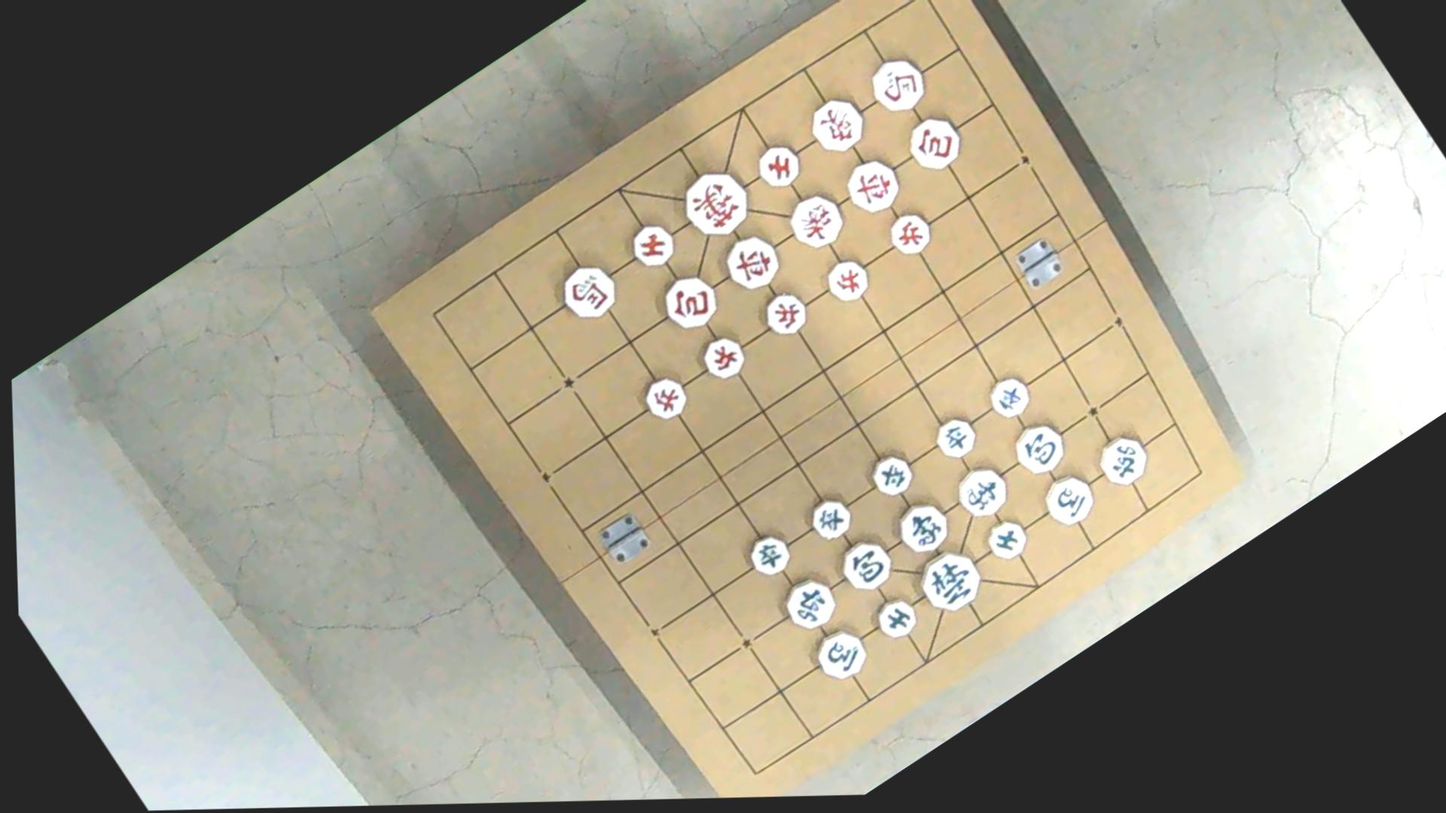cha_green: (775, 571, 844, 638), (1091, 428, 1157, 492)
cha_red: (837, 151, 908, 221), (718, 227, 788, 298)
jol_green: (742, 528, 796, 582), (866, 447, 920, 501), (804, 492, 857, 545), (984, 370, 1037, 422), (929, 411, 982, 463)
jol_red: (757, 285, 815, 342), (637, 370, 694, 426), (819, 252, 875, 308), (882, 205, 938, 261), (696, 330, 751, 385)
ma_green: (1036, 467, 1102, 533), (807, 622, 874, 687)
ma_red: (862, 49, 934, 120), (554, 256, 624, 327)
po_green: (832, 531, 900, 598), (1008, 415, 1074, 480)
po_red: (654, 266, 726, 338), (900, 108, 970, 178)
sa_green: (981, 513, 1034, 565), (870, 592, 923, 644)
sa_red: (624, 217, 682, 274), (751, 137, 807, 193)
sang_green: (949, 458, 1016, 525), (889, 494, 956, 561)
sang_red: (803, 90, 872, 160), (782, 187, 852, 256)
wang_green: (910, 541, 991, 621)
wang_red: (673, 160, 760, 247)
